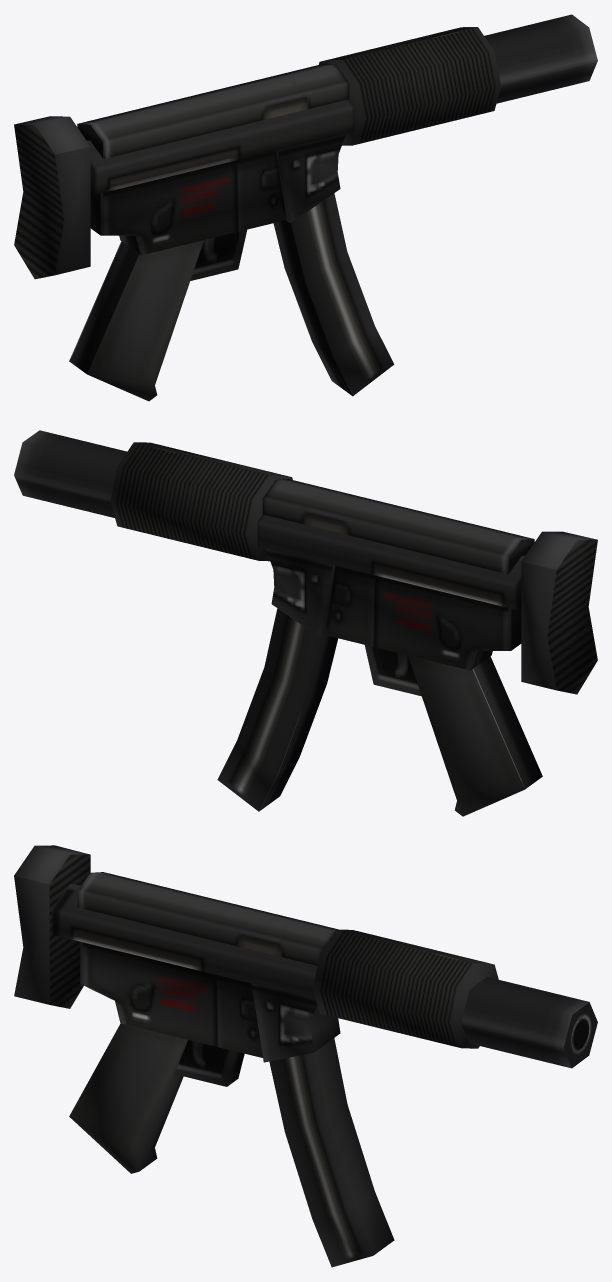
The model's file is smg mp5 lv1.FBX.
3 views of the same model, one above another, from view 1: azimuth 30°, elevation 25°; view 2: azimuth 150°, elevation 25°; view 3: azimuth 330°, elevation 25° (orthographic).
Visible parts, largest first — view 1: Object047; view 2: Object047; view 3: Object047.
Part boxes in pixels (x1,y1,x2,y2): Object047: (14, 14, 597, 401); Object047: (14, 430, 597, 816); Object047: (14, 845, 597, 1267).
Bounding box in the file's own units: 63.75 × 37.83 × 9.42.
